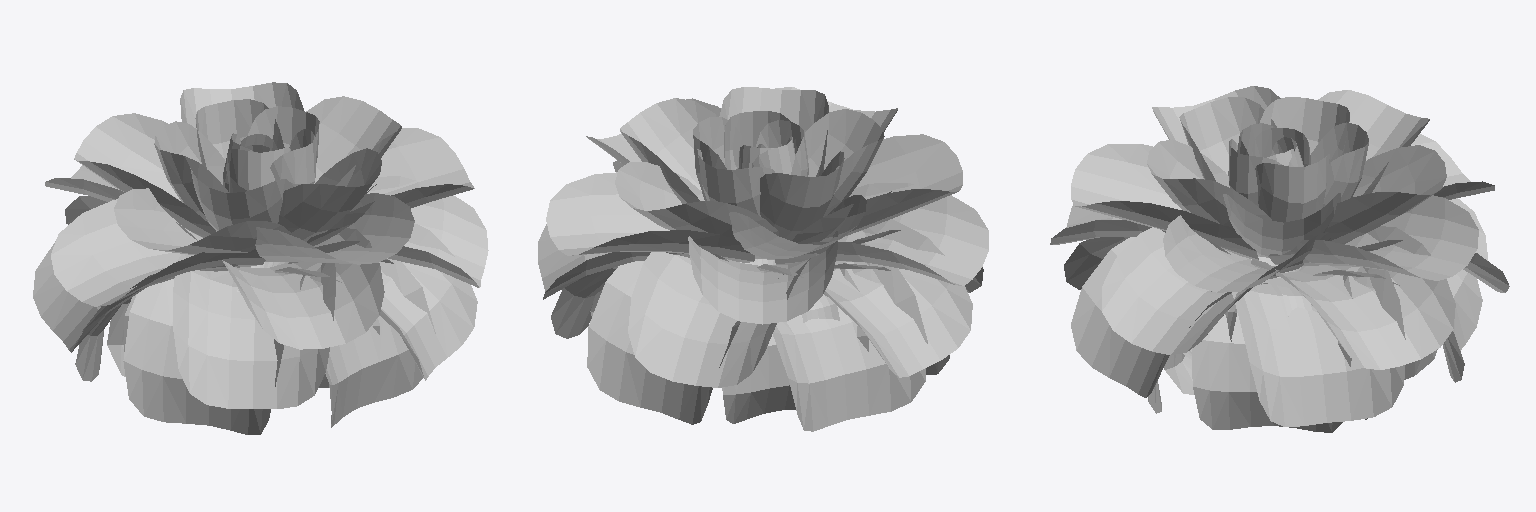
File: FlowerTopModel_03_seq_0060.obj
3 renders of one model, left to right at view 1: azimuth 30°, elevation 25°; view 2: azimuth 150°, elevation 25°; view 3: azimuth 270°, elevation 25°, orthographic.
Visible parts, largest first — view 1: FlowerTopModel_03; view 2: FlowerTopModel_03; view 3: FlowerTopModel_03.
Boxes of the visible parts, x1,y1,x2,y2 form: FlowerTopModel_03: [33, 82, 488, 434]; FlowerTopModel_03: [538, 87, 988, 431]; FlowerTopModel_03: [1050, 86, 1509, 432].
Bounding box in the file's own units: 918 × 550 × 940.